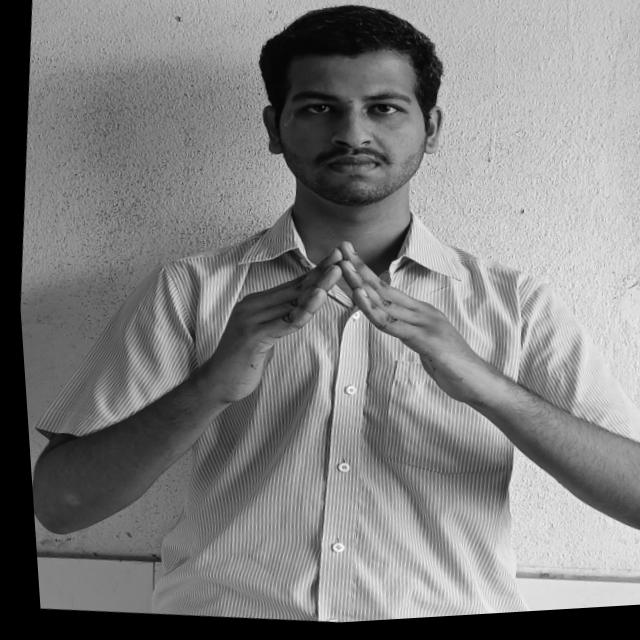Home: (206, 224, 485, 414)
